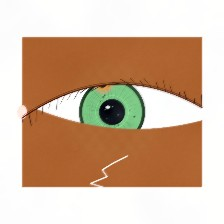foreign_body_visible: (79, 63, 128, 103)
